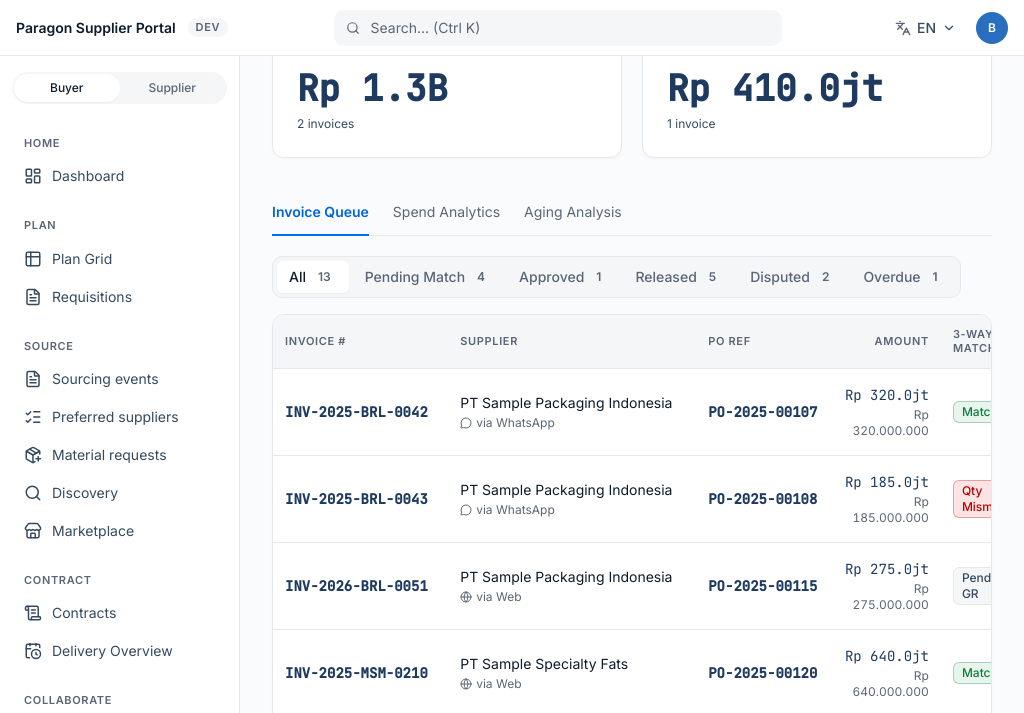
Scenario: S2a · BuyerInvoices — the line reads lifecycleState, never the projection › an invoice in Payment Released names THE BANK
(page scrolled)
Click the text "INV-2025-BRL-0042" at (361, 412), box [285,402,436,422]
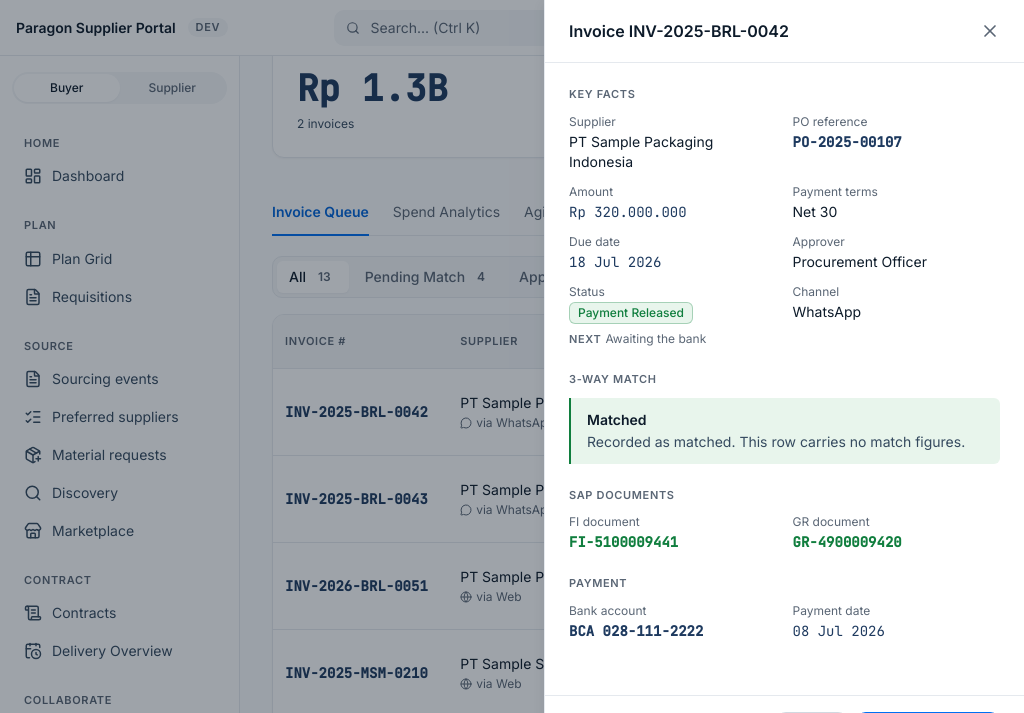
Expected: the element with test id "next-act-buyer-invoice" shows "Awaiting the bank", [605,331,706,346]
